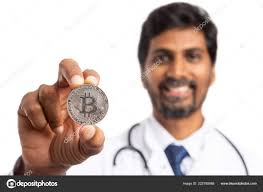Indian_Male: (140, 5, 218, 118)
